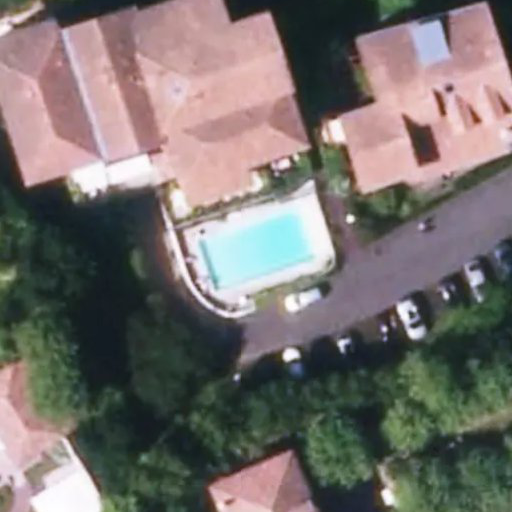pool: (194, 232, 317, 248)
